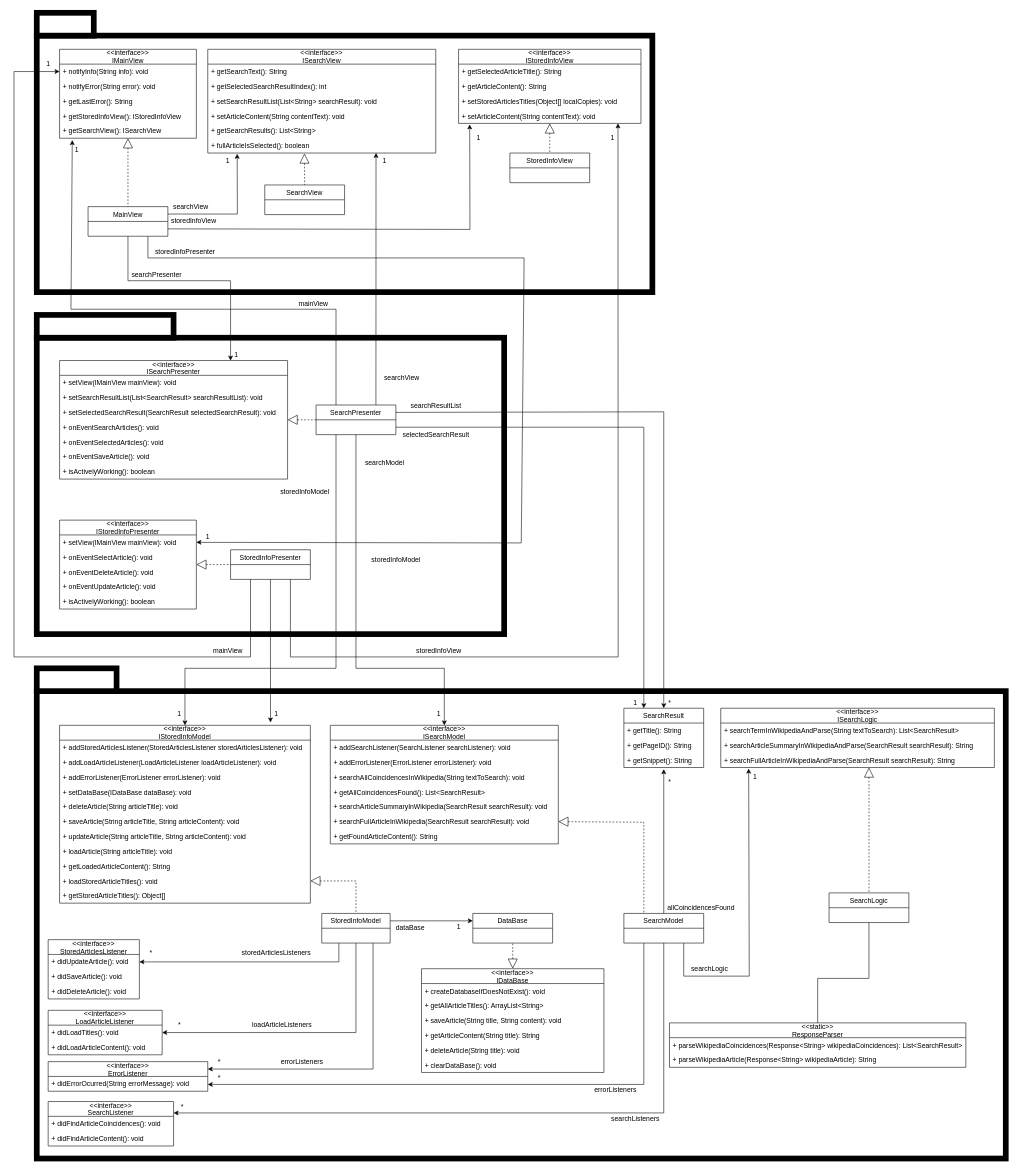
The diagram is 1019 pixels wide and 1171 high, and some of its shapes have lost their labels. The shapes that lost their labels are listed below. From the top down, each one's centre as x and y in pixels, then its label:
At [65,24]: "VISTA".
At [105,326]: "PRESENTADOR".
At [76,679]: "MODELO".
